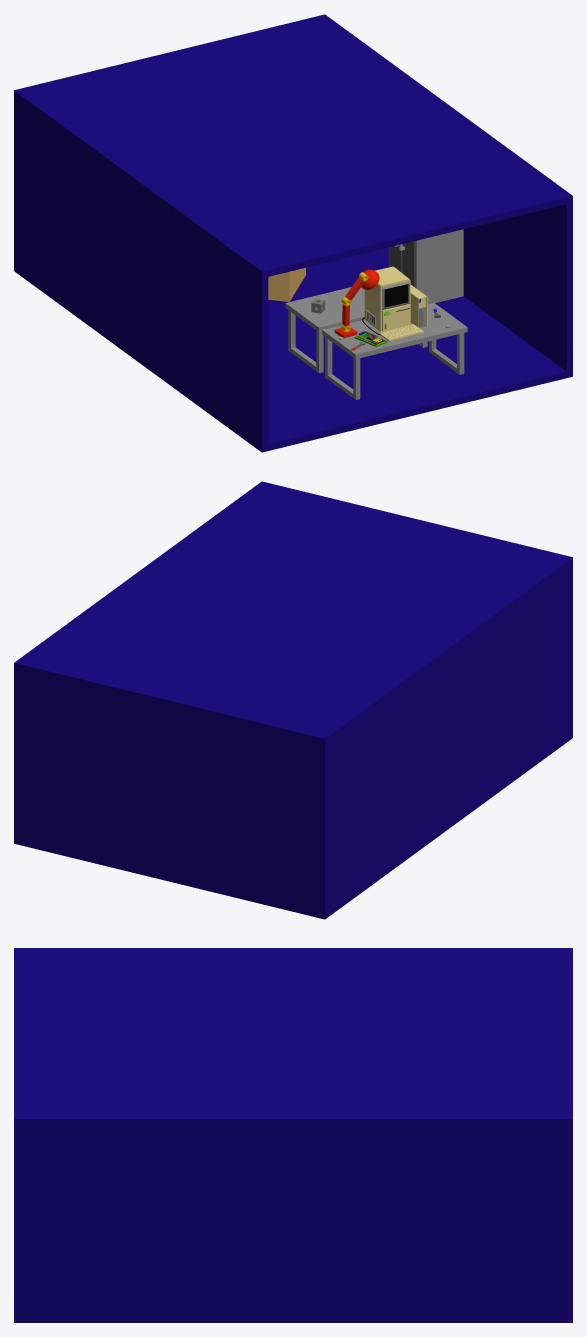
The model's file is menu.glb.
3 renders of one model, top to bottom at view 1: azimuth 30°, elevation 25°; view 2: azimuth 150°, elevation 25°; view 3: azimuth 270°, elevation 25°, orthographic. The views are drawn at different scales.
Parts seen in each view (by area): view 1: Cube, Cube.059, Cube.032, Cube.005, Cube.054, Cube.008, Cube.053, Cube.034, Cube.003, Cube.056, Cube.033; view 2: Cube; view 3: Cube.
Boxes of the visible parts, bbox=[...] form: Cube: bbox=[14, 14, 572, 452]; Cube.059: bbox=[389, 229, 463, 303]; Cube.032: bbox=[322, 303, 467, 358]; Cube.005: bbox=[285, 287, 430, 332]; Cube.054: bbox=[364, 266, 410, 332]; Cube.008: bbox=[268, 267, 305, 301]; Cube.053: bbox=[382, 281, 410, 331]; Cube.034: bbox=[325, 337, 360, 399]; Cube.003: bbox=[288, 310, 323, 373]; Cube.056: bbox=[410, 285, 427, 327]; Cube.033: bbox=[429, 333, 464, 374]; Cube: bbox=[14, 481, 572, 919]; Cube: bbox=[14, 948, 572, 1322].
Bounding box in the file's own units: 12.95 × 7.2 × 17.88.
